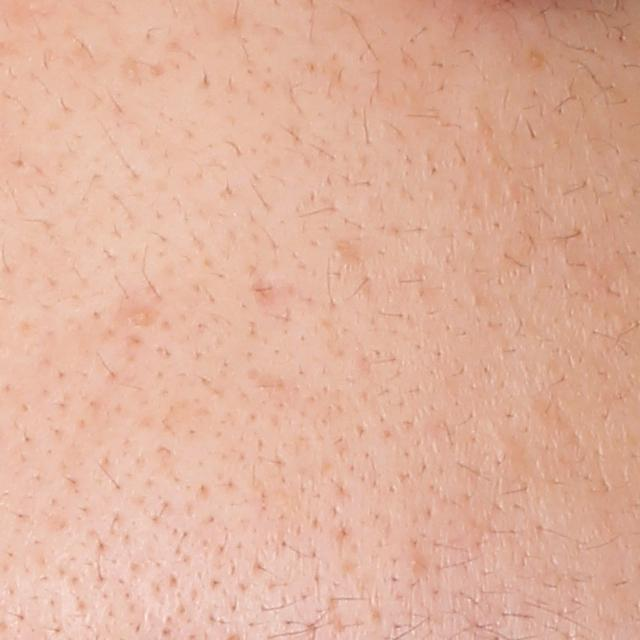comedo: (469, 114, 488, 134)
